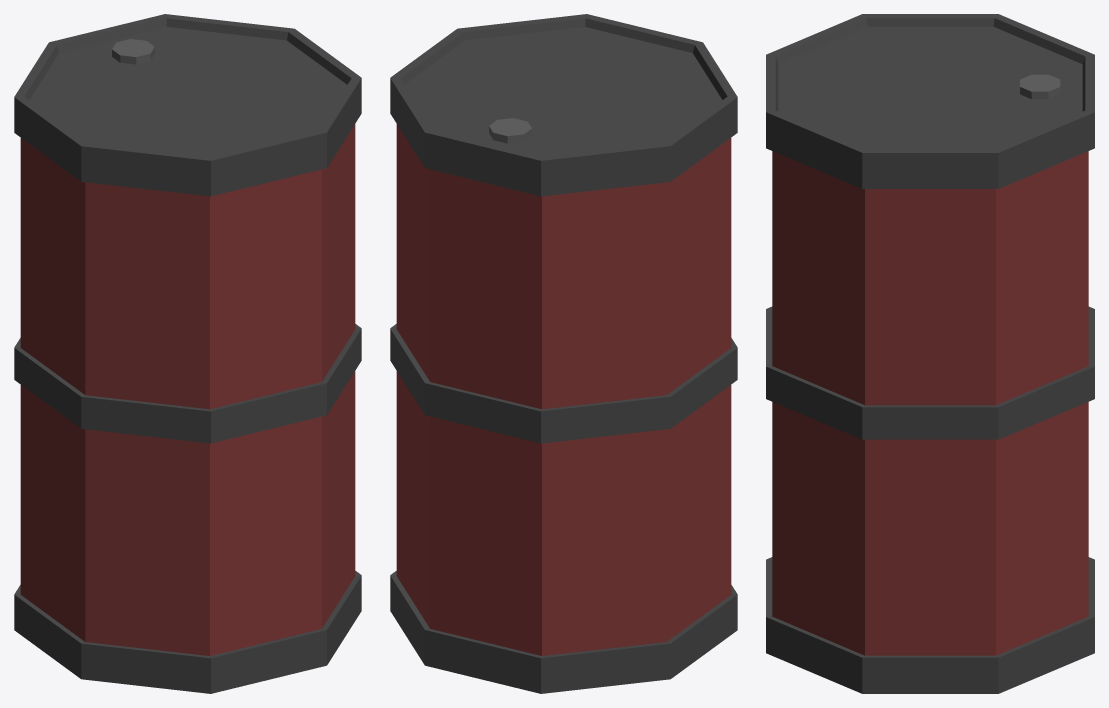
File: SmallMetalBarrel1-1.fbx
3 views of the same model, side by side, from view 1: azimuth 30°, elevation 25°; view 2: azimuth 150°, elevation 25°; view 3: azimuth 270°, elevation 25° (orthographic).
Parts seen in each view (by area): view 1: MetalBarrel.000_LOD0; view 2: MetalBarrel.000_LOD0; view 3: MetalBarrel.000_LOD0.
Part boxes in pixels (x1,y1,x2,y2): MetalBarrel.000_LOD0: (14,14,361,693); MetalBarrel.000_LOD0: (390,14,737,693); MetalBarrel.000_LOD0: (766,14,1094,693).
Size of what is drawn, in the model's own units: 141 by 257 by 141.
Materials: 1 (1 with a texture image).
